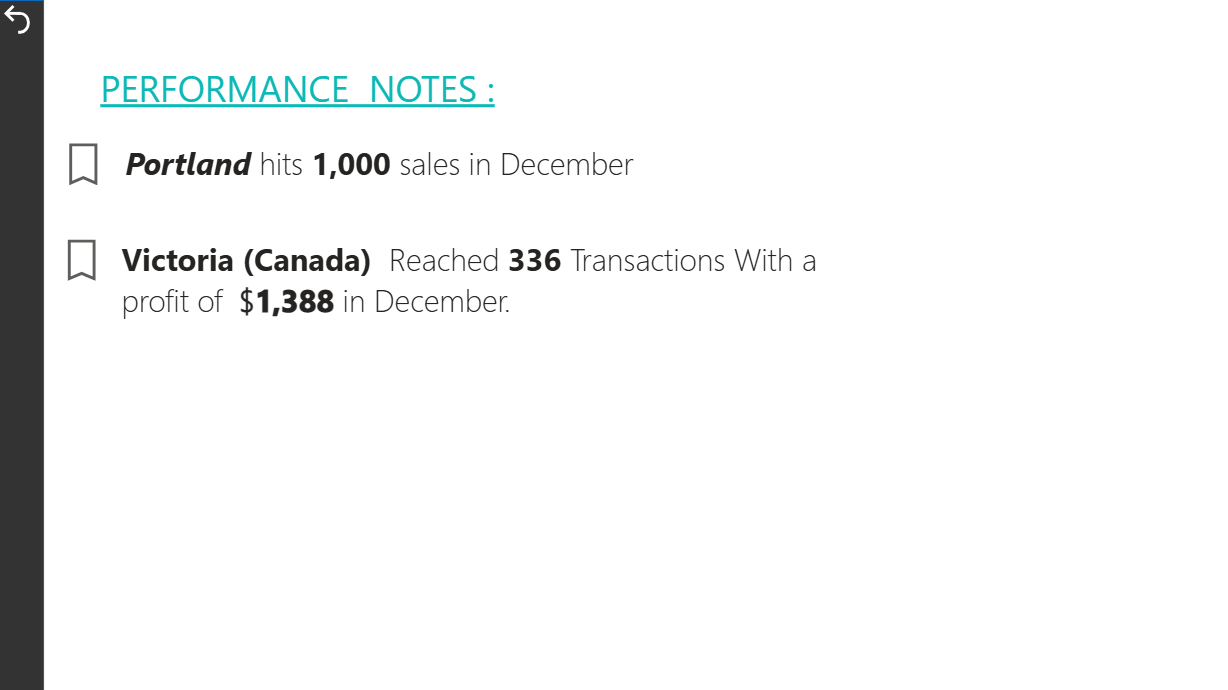

Layout of this report page (visuals, bound fields, positions):
{"tool":"powerbi","page":{"name":"Notes","canvas":[1280,720],"ordinal":1},"visuals":[{"type":"textbox","box":[101.4,61.4,655.7,64.3],"z":0},{"type":"textbox","box":[127.1,142.9,792.9,68.6],"z":1000},{"type":"actionButton","box":[59.4,242.5,107,54.7],"z":2000},{"type":"textbox","box":[123.6,242.5,794.1,95.1],"z":3000},{"type":"actionButton","box":[61.2,142.2,108.1,55.5],"z":4000},{"type":"shape","box":[0,0,47.8,720.3],"z":5000},{"type":"actionButton","box":[0,0,100,40],"z":6000}]}

Visuals, with their boxes on the page's 1280x720 design canvas (x1, y1, x2, y2). These are canvas units, not pixel positions in the 1228x690 screenshot, which may show the page scaled, cropped or inside an application window:
textbox: {"left": 101, "top": 61, "right": 757, "bottom": 126}
textbox: {"left": 127, "top": 143, "right": 920, "bottom": 212}
actionButton: {"left": 59, "top": 242, "right": 166, "bottom": 297}
textbox: {"left": 124, "top": 242, "right": 918, "bottom": 338}
actionButton: {"left": 61, "top": 142, "right": 169, "bottom": 198}
shape: {"left": 0, "top": 0, "right": 48, "bottom": 720}
actionButton: {"left": 0, "top": 0, "right": 100, "bottom": 40}
